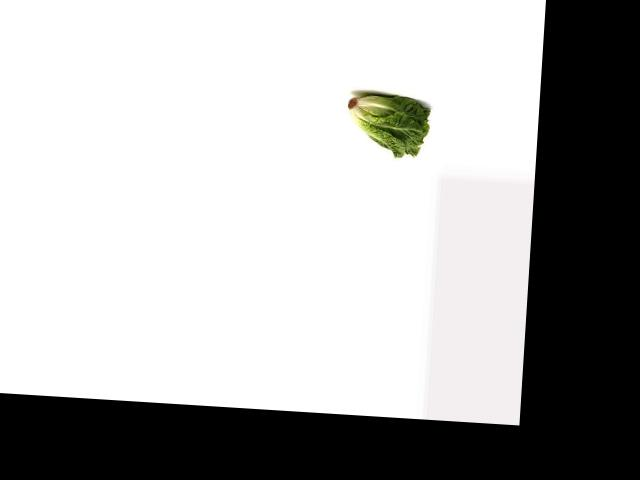lettuce: (341, 90, 431, 159)
